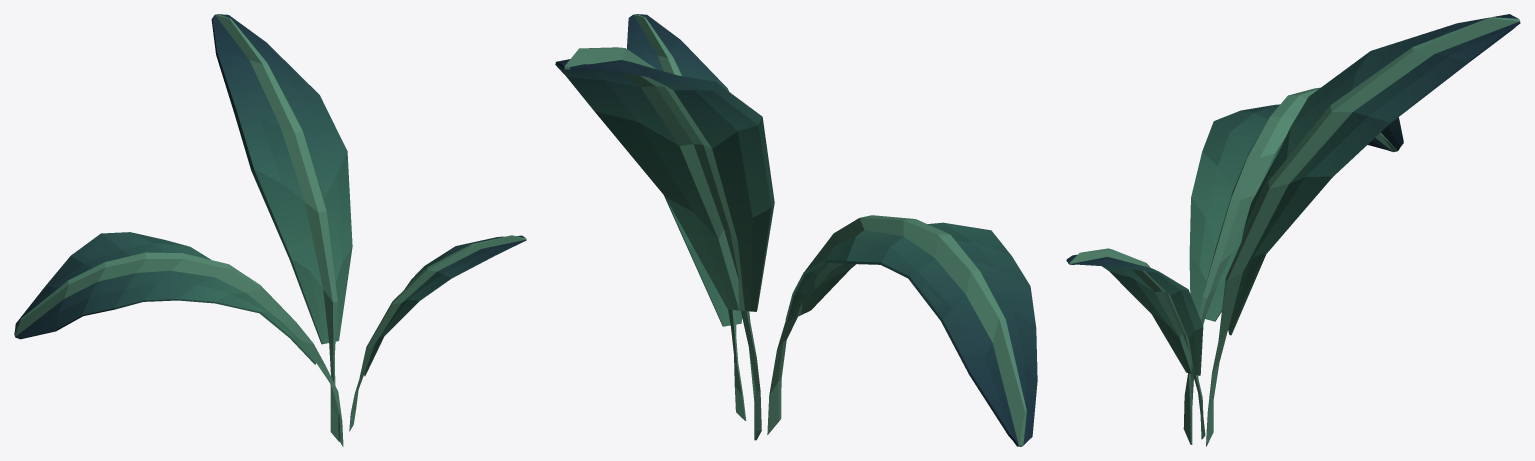
Rendered from Leaves_dark.fbx.
3 renders of one model, left to right at view 1: azimuth 30°, elevation 25°; view 2: azimuth 150°, elevation 25°; view 3: azimuth 270°, elevation 25°, orthographic. The views are drawn at different scales.
Parts seen in each view (by area): view 1: Leaves_dark; view 2: Leaves_dark; view 3: Leaves_dark.
Part boxes in pixels (x1=…): Leaves_dark: x1=14, y1=14, x2=526, y2=446; Leaves_dark: x1=555, y1=14, x2=1037, y2=446; Leaves_dark: x1=1066, y1=14, x2=1520, y2=446.
Bounding box in the file's own units: 45.68 × 38.52 × 36.8.
